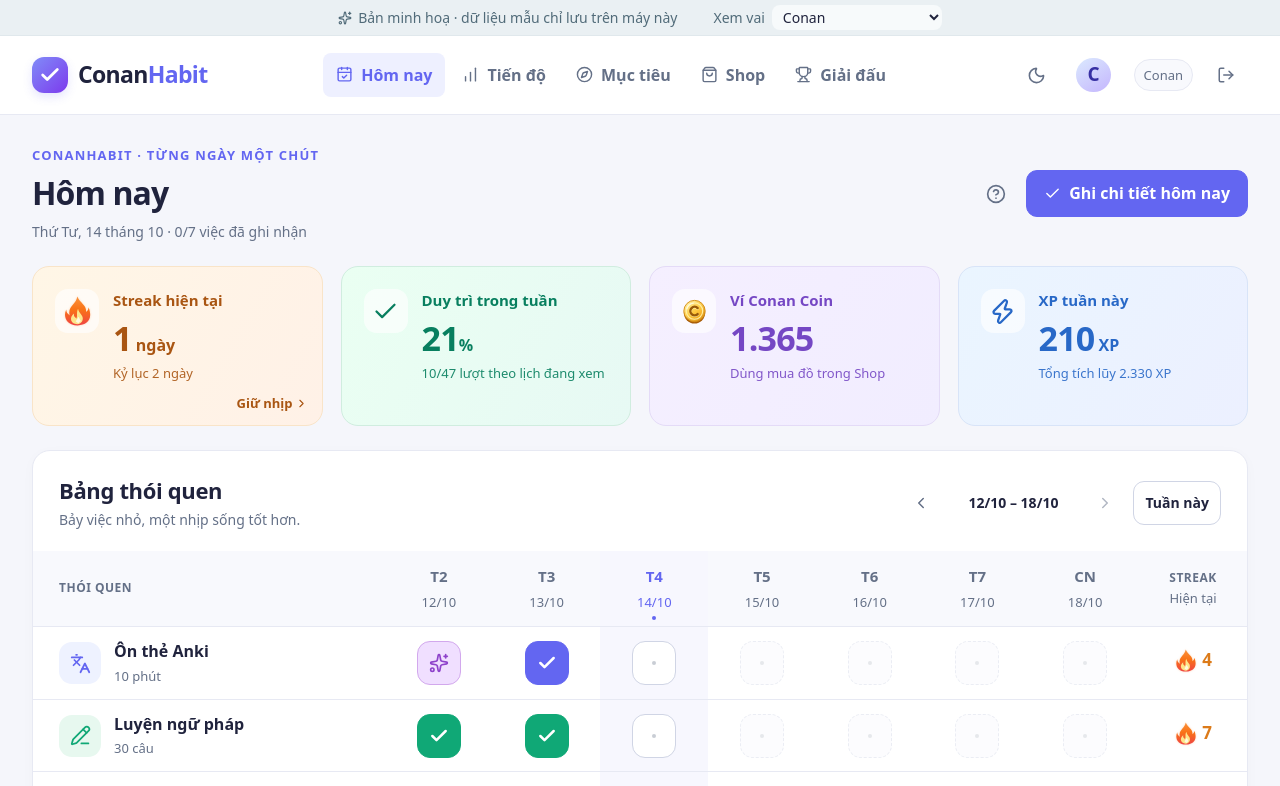
working app flows in a local DOM › distinguishes a completed save from a failed refresh
The width and height of the screenshot is (1280, 786).
expect the heading "Hôm nay" is shown: met, box [32,171,168,214]
Click the checkbox named "Ôn thẻ Anki, Thứ Tư, 14 tháng 10: Chưa ghi nhận" at [654, 663], box [632,641,676,685]
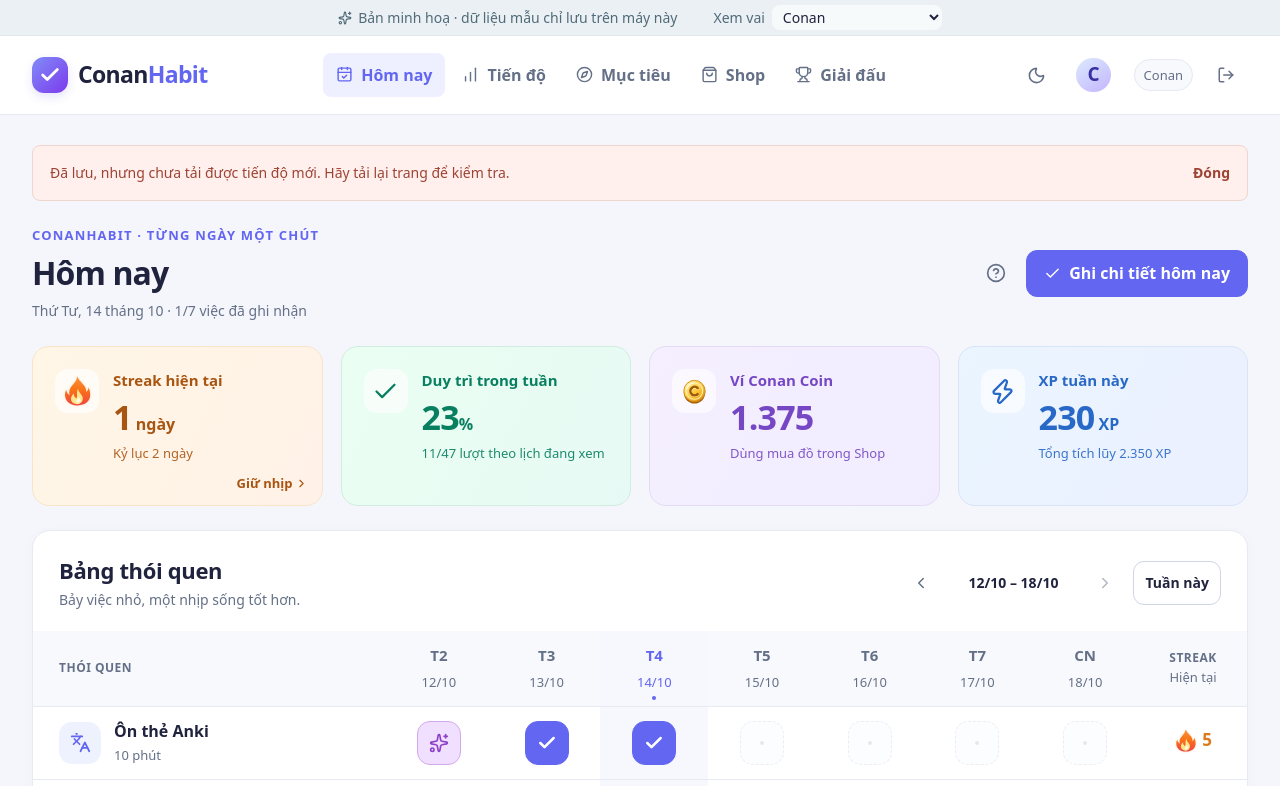
expect the text "Đã lưu, nhưng chưa tải được tiến độ mới. Hãy tải lại trang để kiểm tra." is shown: met, box [50,162,510,184]
